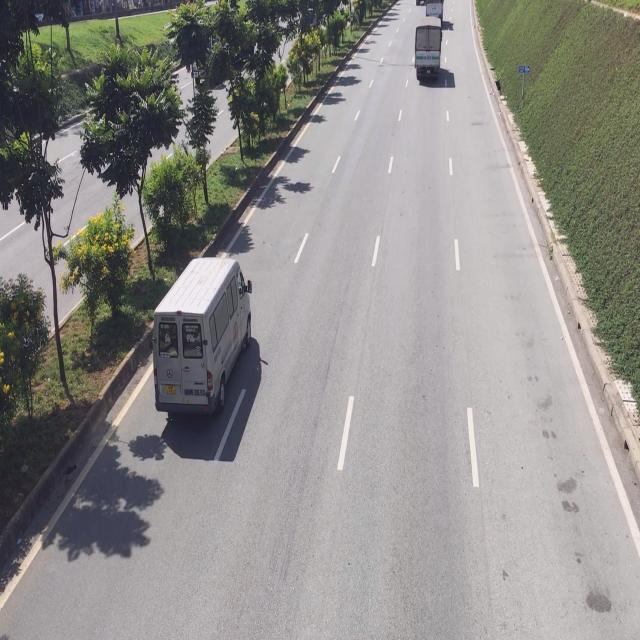bus: (151, 256, 255, 423)
truck: (414, 14, 442, 86)
